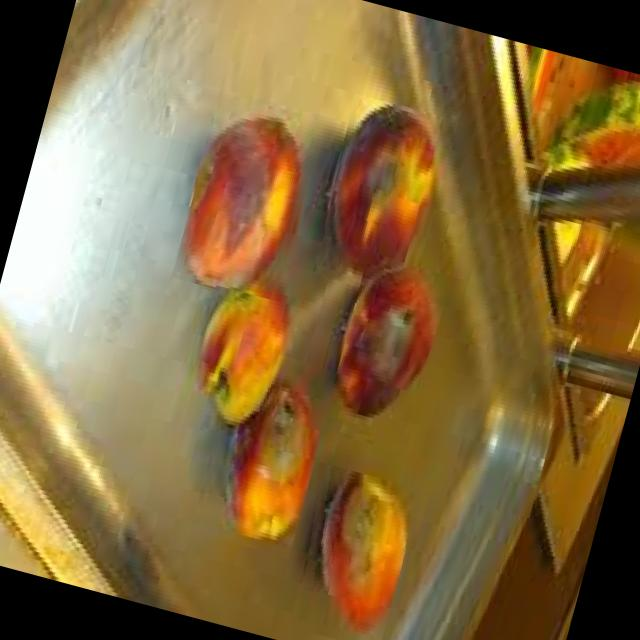Organic: (170, 94, 324, 305), (304, 93, 442, 301), (184, 378, 328, 558), (279, 463, 420, 640), (324, 262, 456, 439), (180, 285, 322, 445)
